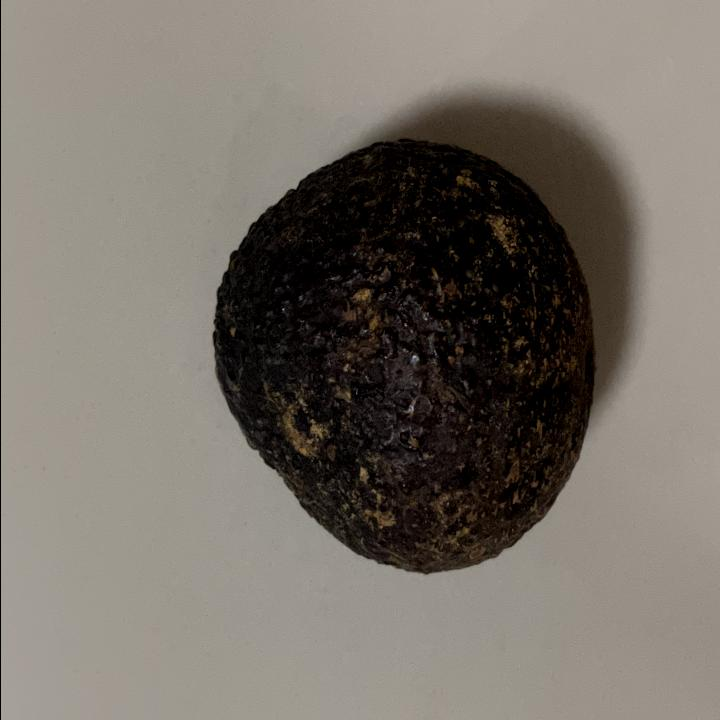Level3: (200, 129, 600, 588)
